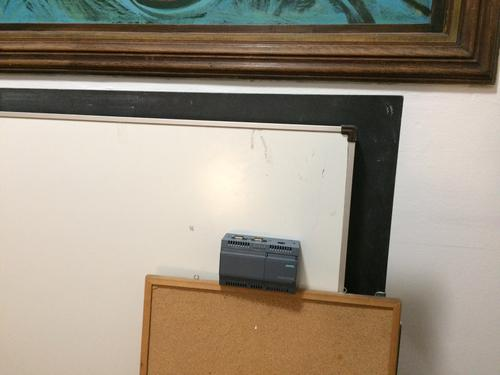iot2000: (217, 232, 300, 295)
